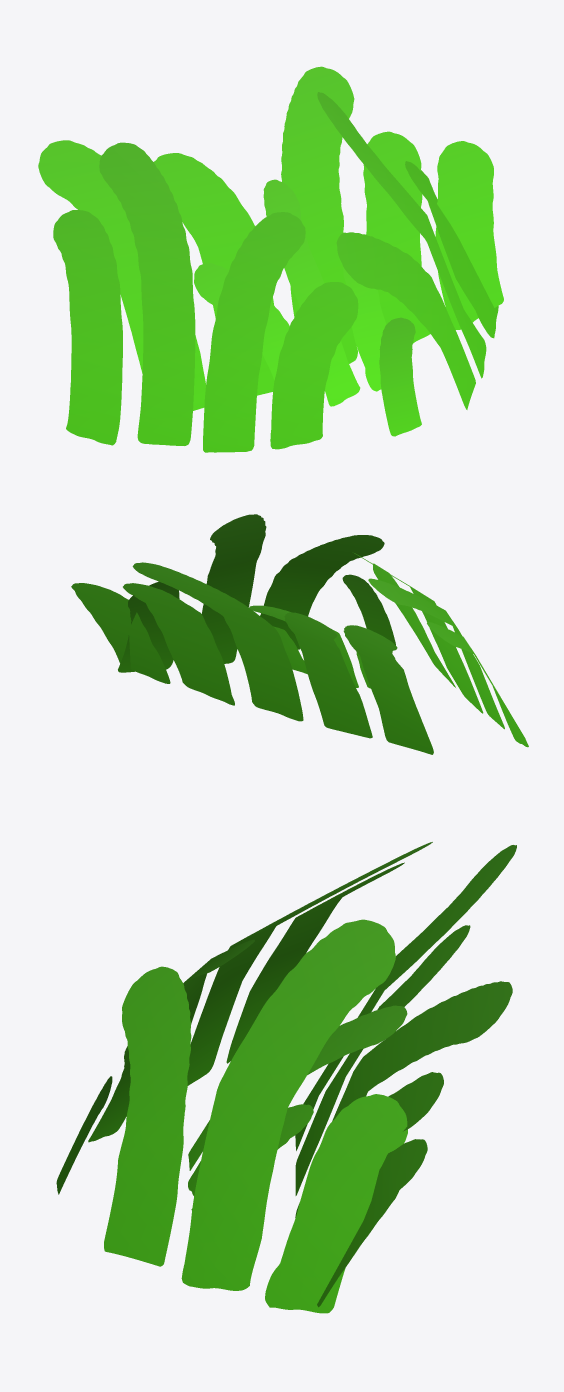
Rendered from Grass_1d.fbx.
3 renders of one model, top to bottom at view 1: azimuth 30°, elevation 25°; view 2: azimuth 150°, elevation 25°; view 3: azimuth 270°, elevation 25°, orthographic. The views are drawn at different scales.
Parts seen in each view (by area): view 1: Grass_1d; view 2: Grass_1d; view 3: Grass_1d.
Boxes of the visible parts, bbox=[...] form: Grass_1d: bbox=[38, 66, 503, 452]; Grass_1d: bbox=[71, 514, 528, 754]; Grass_1d: bbox=[56, 842, 516, 1313].
Size of the model in its own units: 30.45 by 15.69 by 21.78.
